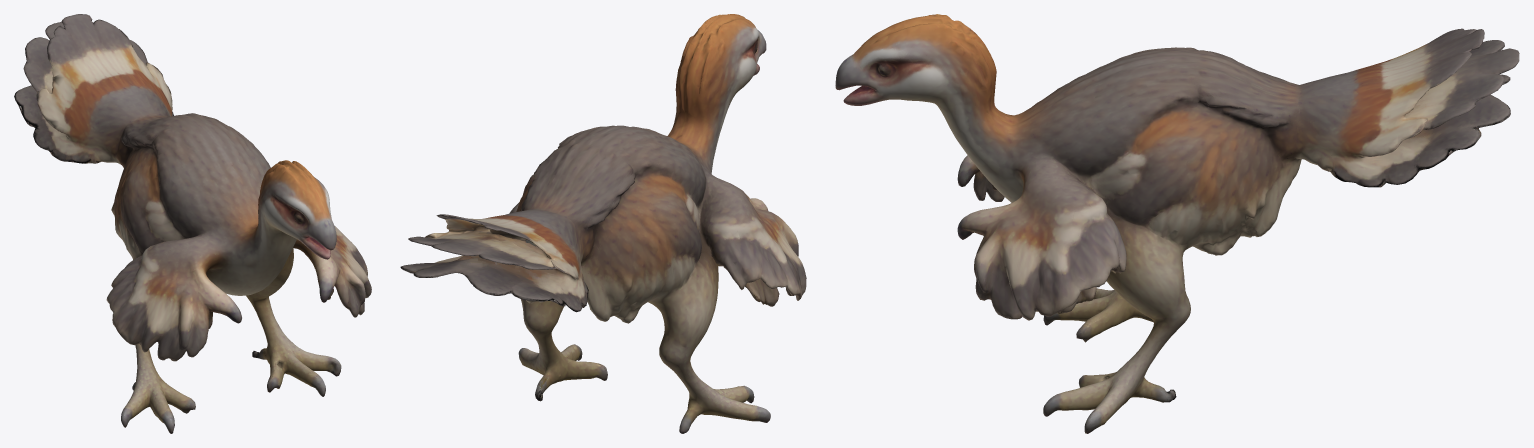
3 views of the same model, side by side, from view 1: azimuth 30°, elevation 25°; view 2: azimuth 150°, elevation 25°; view 3: azimuth 270°, elevation 25° (orthographic). The views are drawn at different scales.
Visible parts, largest first — view 1: world; view 2: world; view 3: world.
Boxes of the visible parts, left/top/right/bottom form: world: left=14, top=14, right=371, bottom=433; world: left=400, top=14, right=806, bottom=433; world: left=835, top=14, right=1519, bottom=433.
Bounding box in the file's own units: 0.4741 × 0.515 × 0.9.
Materials: 1 (1 with a texture image).
